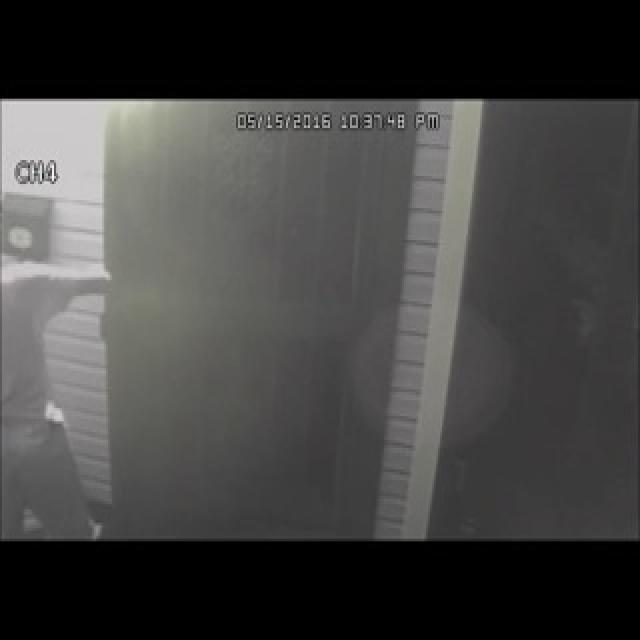thief: (0, 238, 30, 462)
